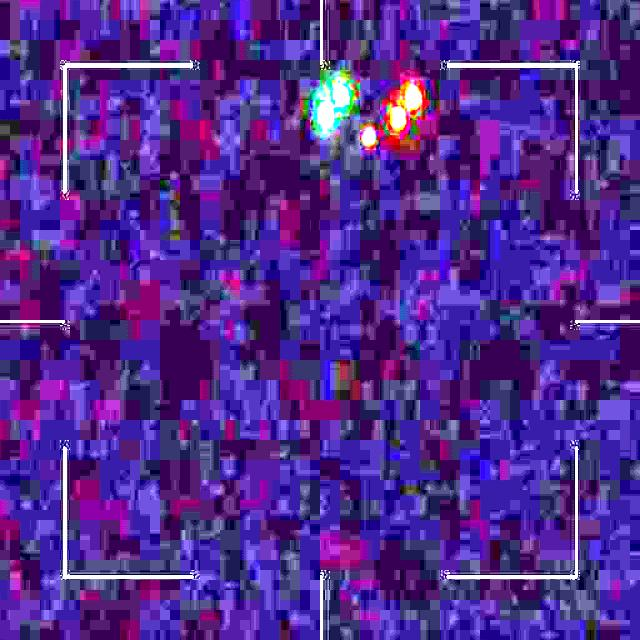bird: (318, 82, 424, 150)
